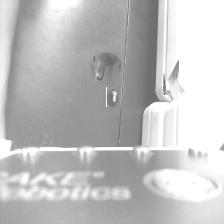Lock: (94, 52, 121, 80), (106, 87, 119, 107)
